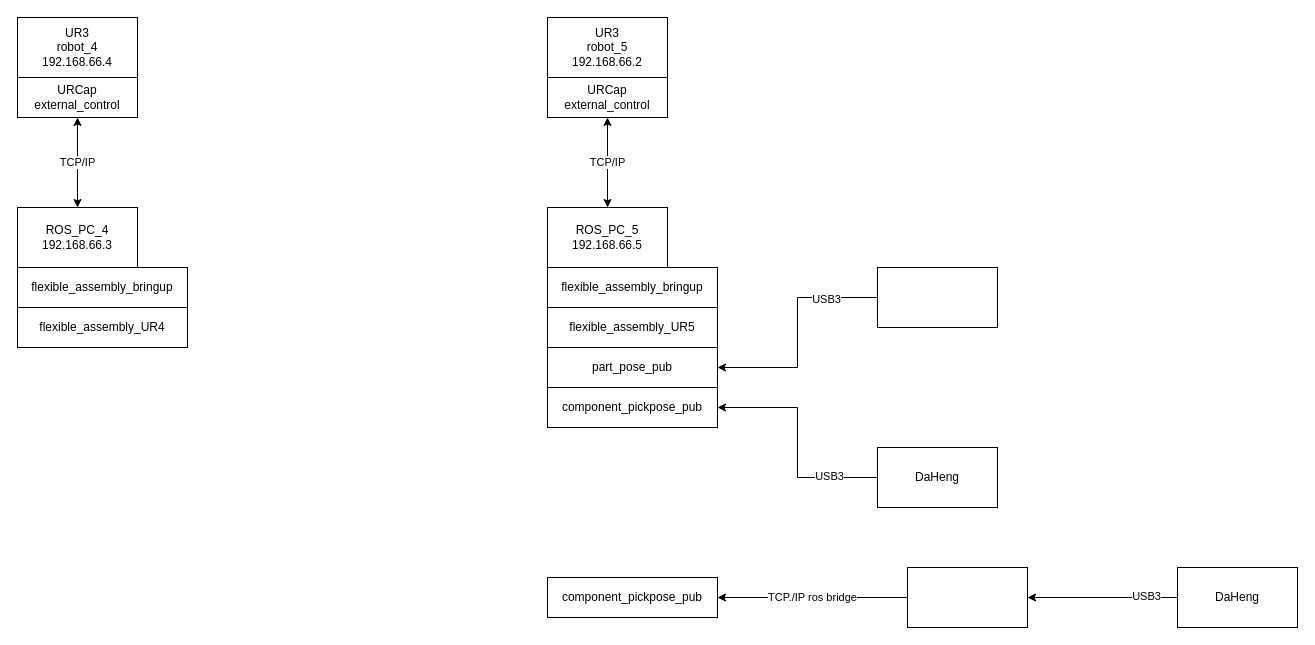
Some shapes in this 1315 by 645 pixel diagram are drawn without their labels. Here are the shapes that lost their labels. From the top down, the box of each, then its label:
(876, 266, 998, 328): RealSense_D435
(906, 566, 1028, 628): Tselmeg_PC
